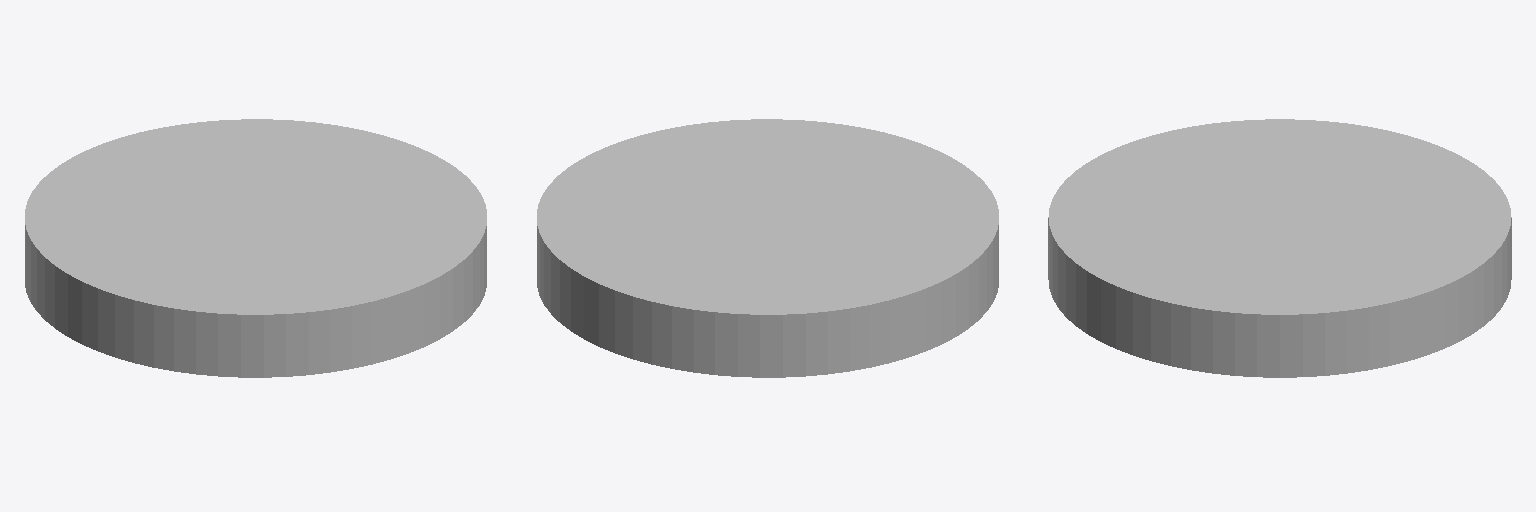
Rendered from btn2.obj.
The picture shows the model from 3 angles: view 1: azimuth 30°, elevation 25°; view 2: azimuth 150°, elevation 25°; view 3: azimuth 270°, elevation 25°; orthographic projection.
Visible parts, largest first — view 1: obj_0; view 2: obj_0; view 3: obj_0.
Boxes of the visible parts, box(x1,y1,x2,y2) form: obj_0: box(25, 119, 486, 377); obj_0: box(537, 119, 998, 377); obj_0: box(1048, 119, 1511, 377).
Size of the model in its own units: 20 by 3.71 by 20.